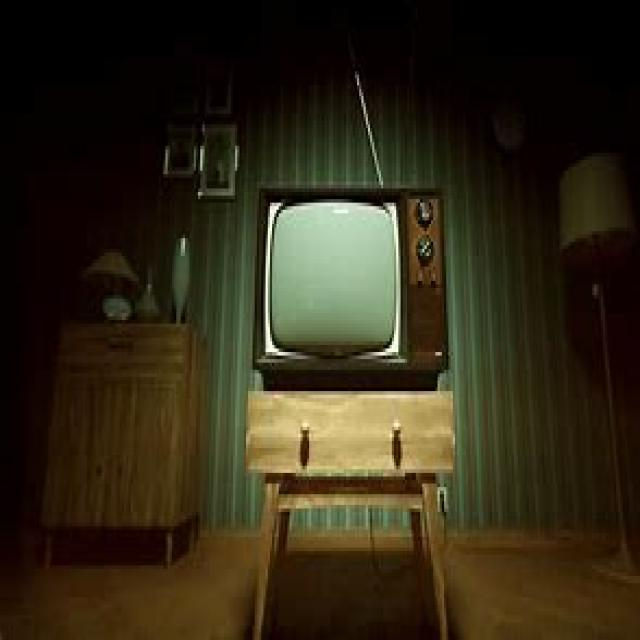tv: (251, 185, 448, 387)
